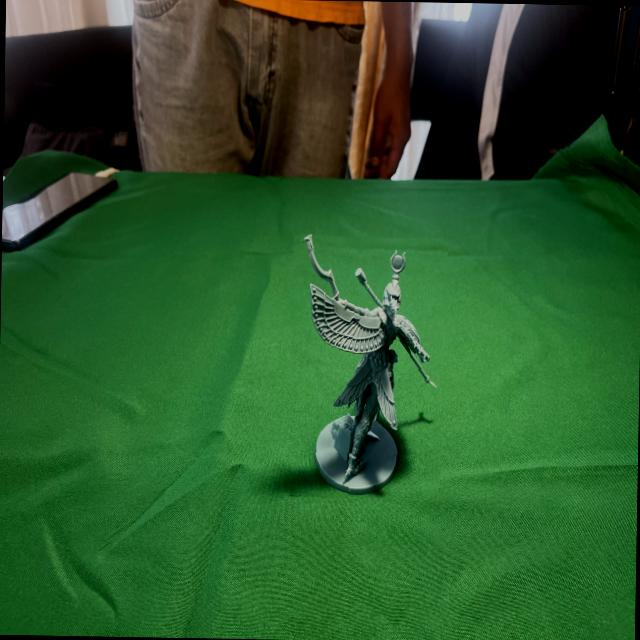isis: (286, 234, 446, 500)
